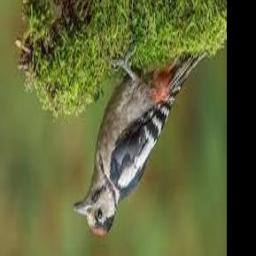Woodpecker: (74, 50, 206, 237)
